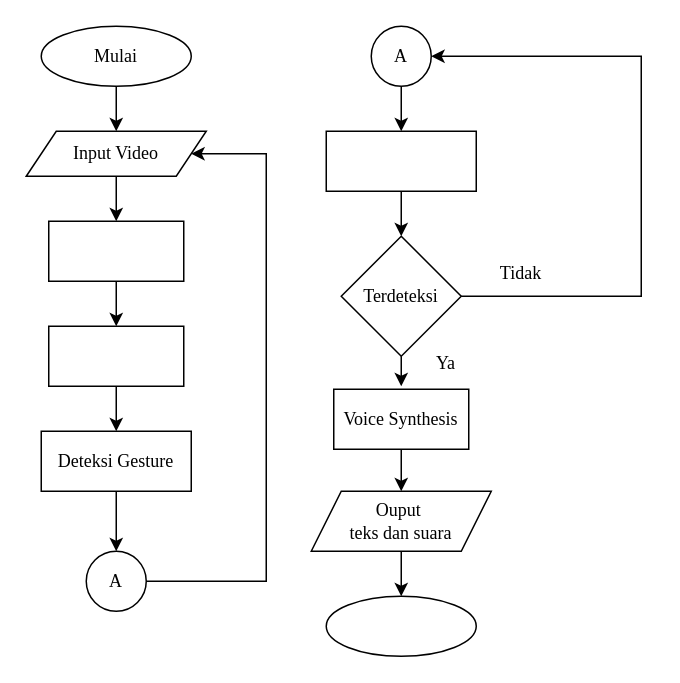
The diagram is 680 pixels wide and 683 high, and some of its shapes have lost their labels. The shapes that lost their labels are listed below. From the top down, each one's box as (x1, y1, x2, y2) in pixels, then its label:
(325, 130, 476, 191): Prediksi Kelas
(47, 220, 184, 281): Load Model
(47, 325, 184, 386): Pre-processing
(325, 595, 476, 656): Selesai
